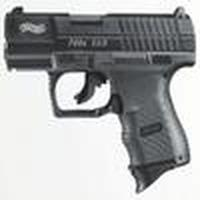gun: (3, 9, 200, 187)
